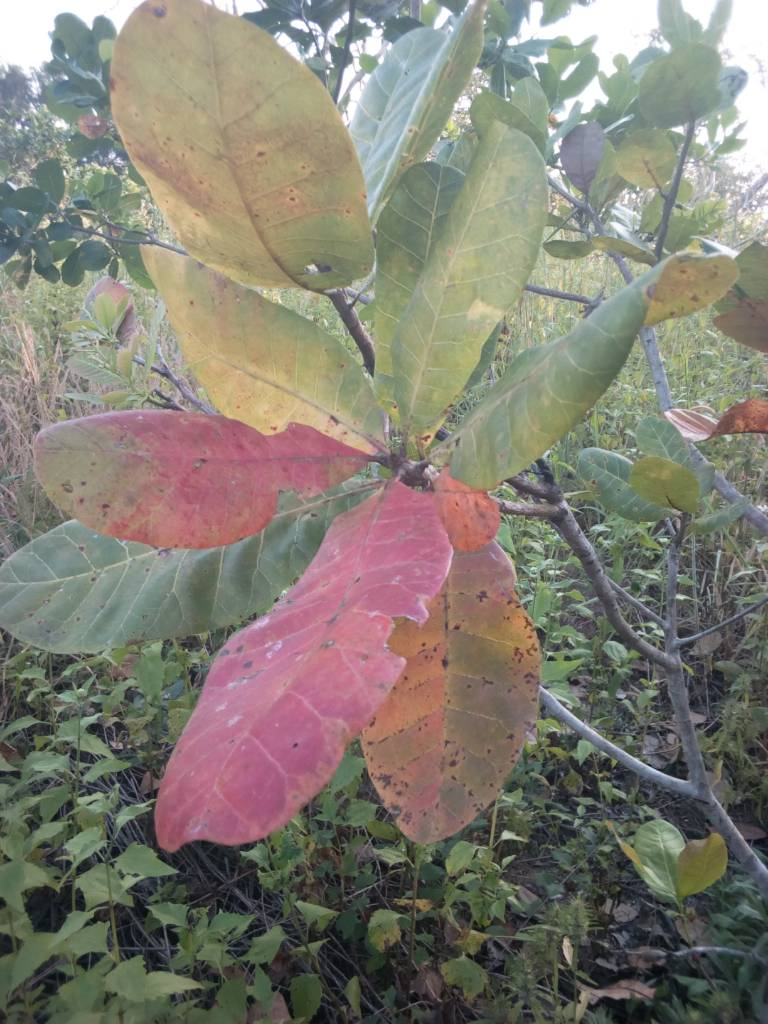Carence minérale: (138, 494, 460, 860), (340, 538, 569, 858), (25, 402, 390, 564)
